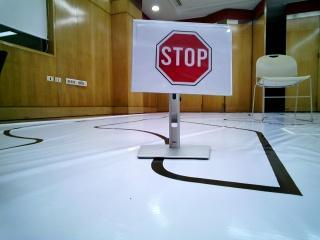stop: (134, 20, 231, 94)
